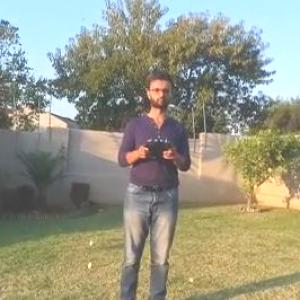follow: (114, 65, 201, 299)
